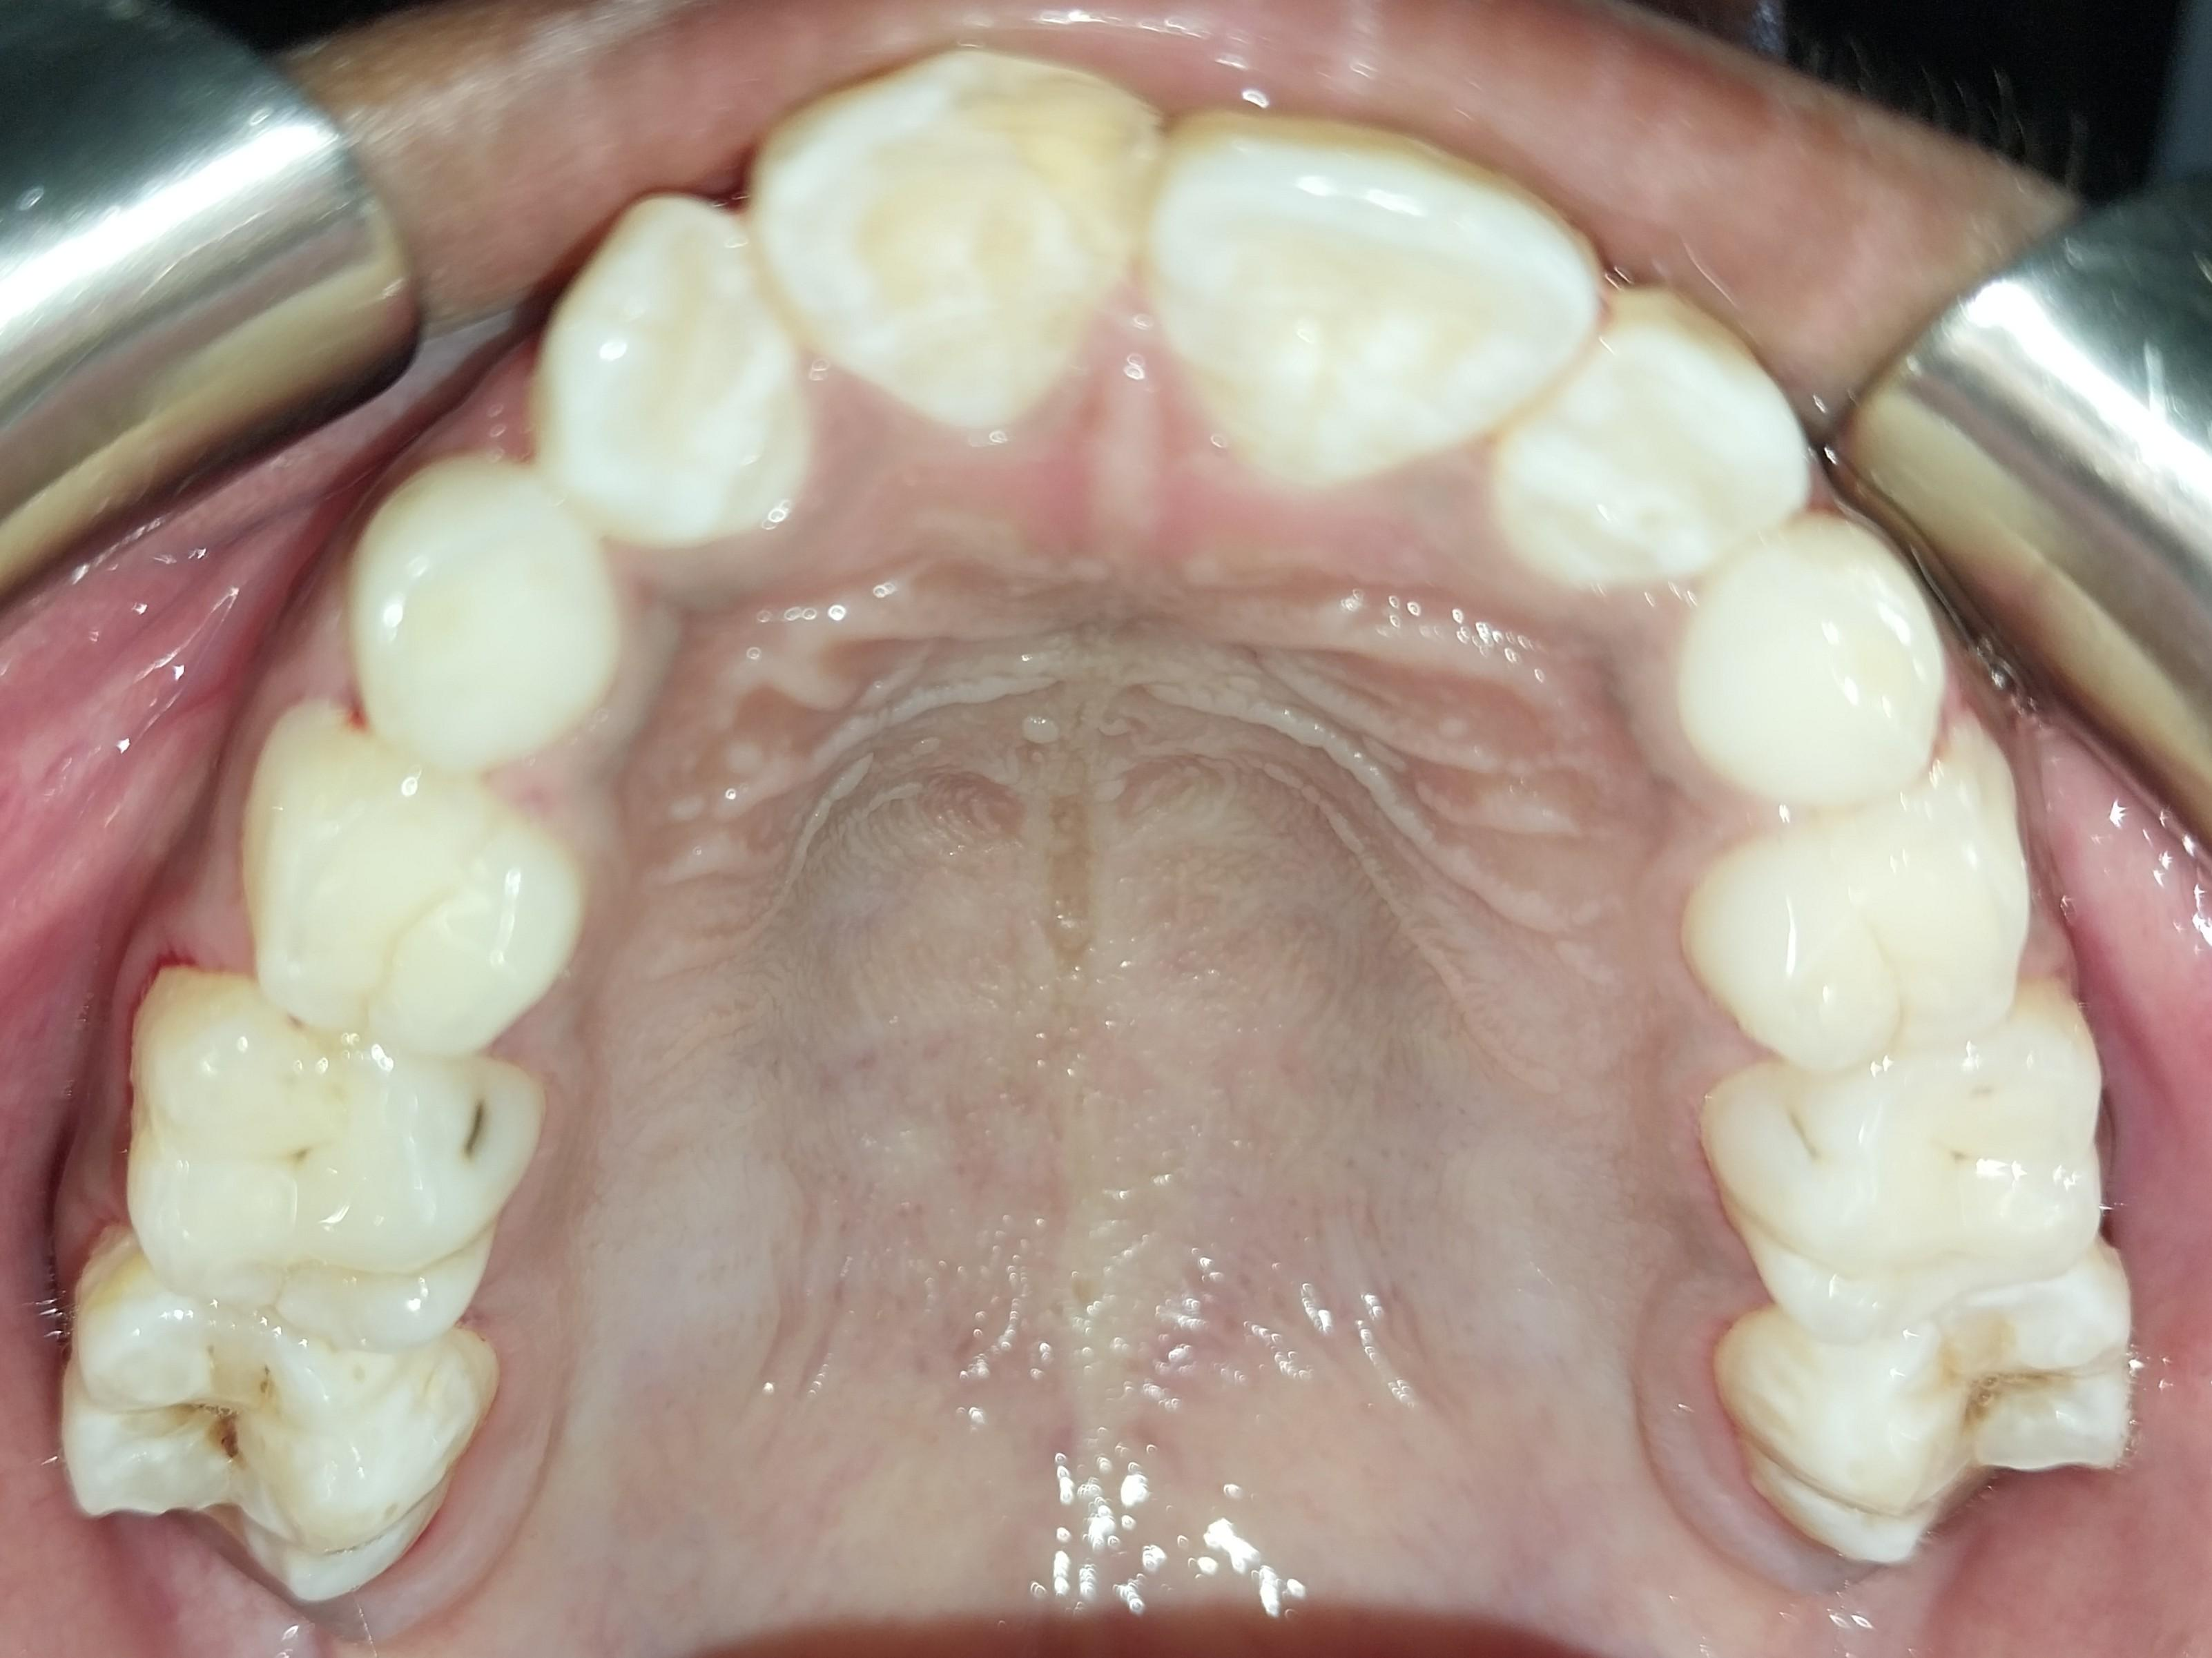D: (64, 1274, 498, 1606)
d: (133, 987, 539, 1352)
